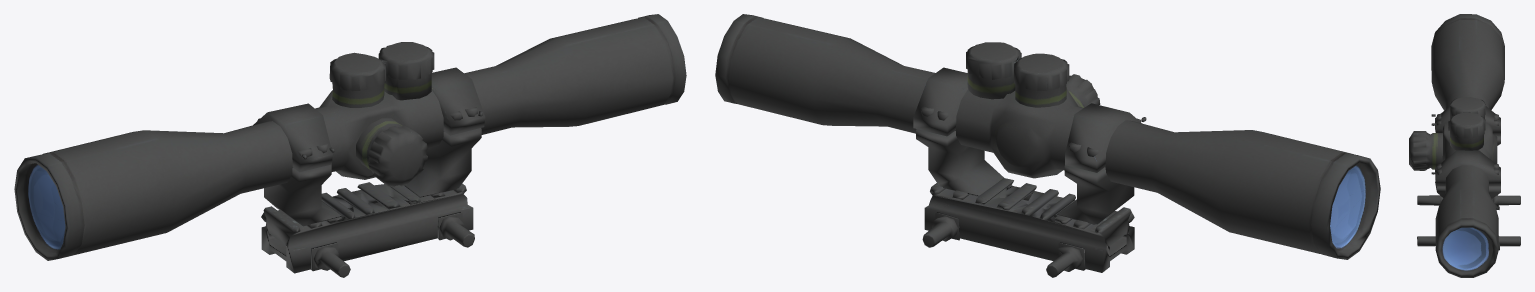
The model's file is sight_sniper_8x.glb.
3 views of the same model, side by side, from view 1: azimuth 30°, elevation 25°; view 2: azimuth 150°, elevation 25°; view 3: azimuth 270°, elevation 25° (orthographic). The views are drawn at different scales.
Size of the model in its own units: 0.957 by 0.2661 by 0.2212.
1 material, 1 textured.
